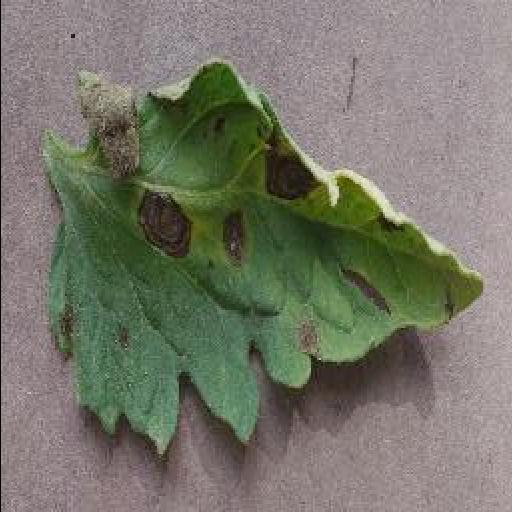disease_tomato: (32, 59, 490, 456)
